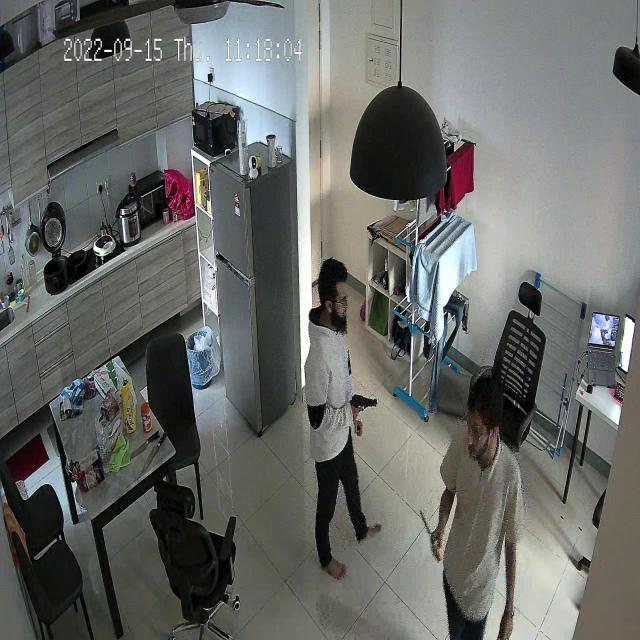Gun: (342, 384, 380, 420)
Knife: (413, 508, 451, 562)
